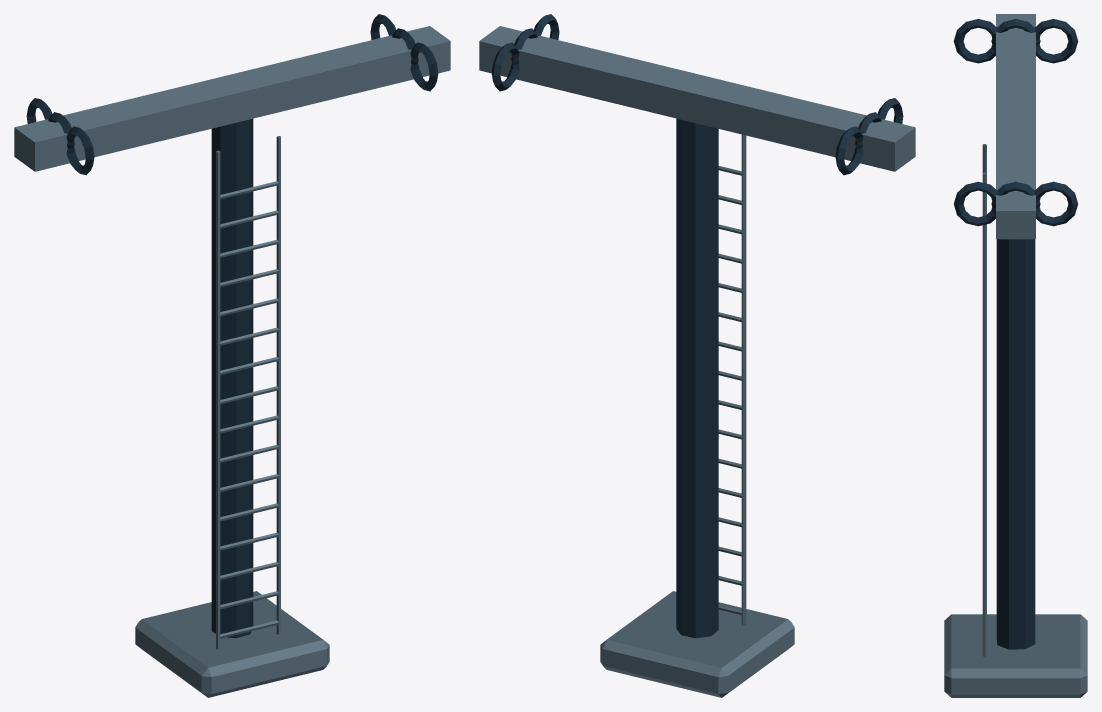
Rendered from lift-tower.glb.
3 views of the same model, side by side, from view 1: azimuth 30°, elevation 25°; view 2: azimuth 150°, elevation 25°; view 3: azimuth 270°, elevation 25° (orthographic). The views are drawn at different scales.
Parts seen in each view (by area): view 1: lift_tower; view 2: lift_tower; view 3: lift_tower.
Boxes of the visible parts, box(x1,y1,x2,y2) form: lift_tower: box(14, 14, 450, 697); lift_tower: box(479, 14, 915, 697); lift_tower: box(944, 14, 1087, 697).
Size of the model in its own units: 5.2 by 7.03 by 1.6.
